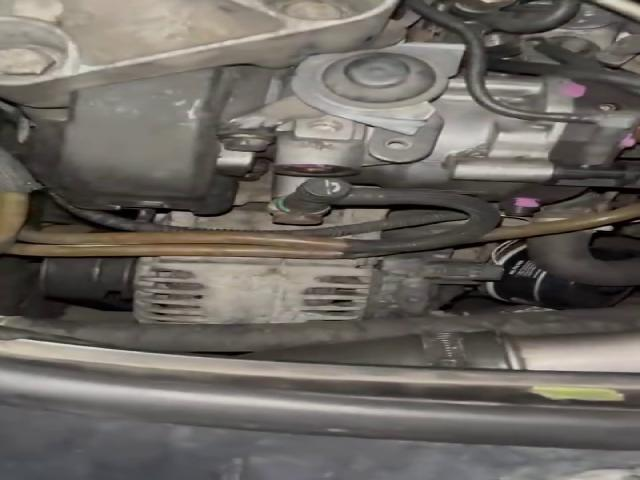alternator: (132, 257, 378, 323)
high_pressure_pump: (274, 74, 638, 215)
